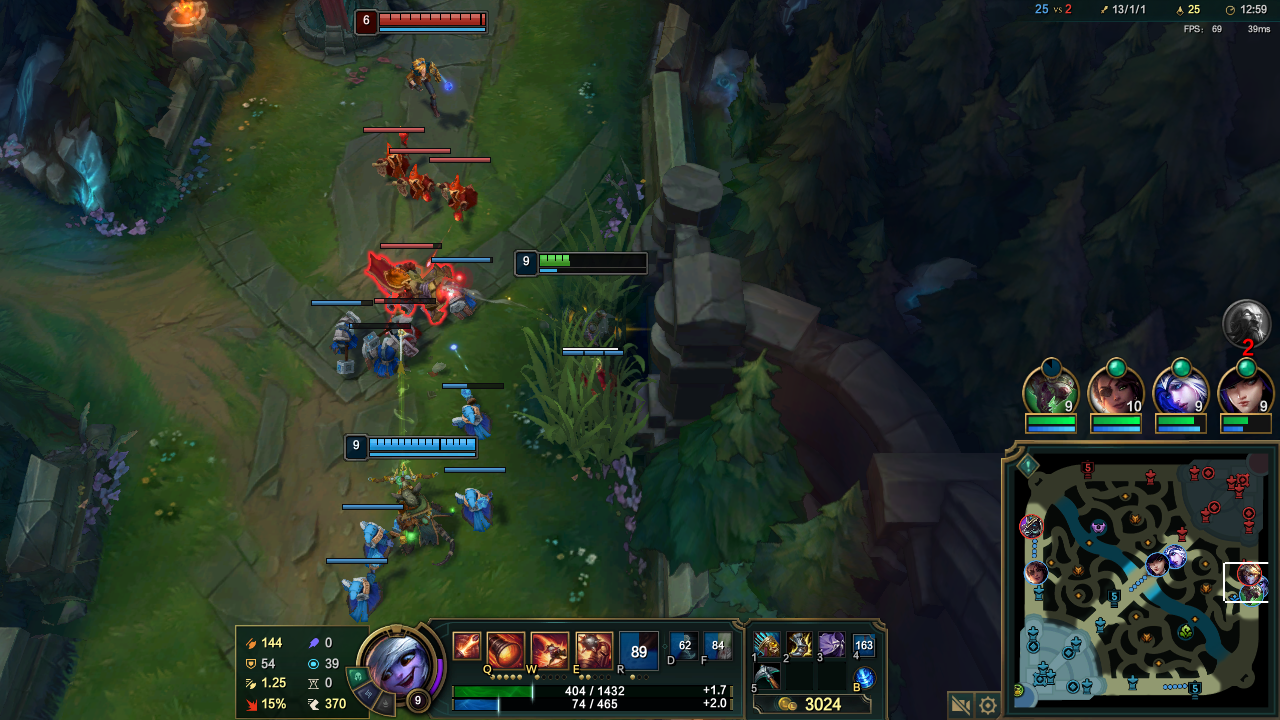DFXB: (364, 247, 461, 317), (440, 174, 491, 216), (395, 163, 439, 204), (381, 310, 423, 347), (374, 144, 412, 173)
DFYX: (377, 12, 458, 36)
WFXB: (449, 478, 507, 538), (337, 567, 388, 619), (345, 523, 402, 567), (325, 313, 361, 373), (448, 399, 498, 442), (356, 336, 400, 379)
